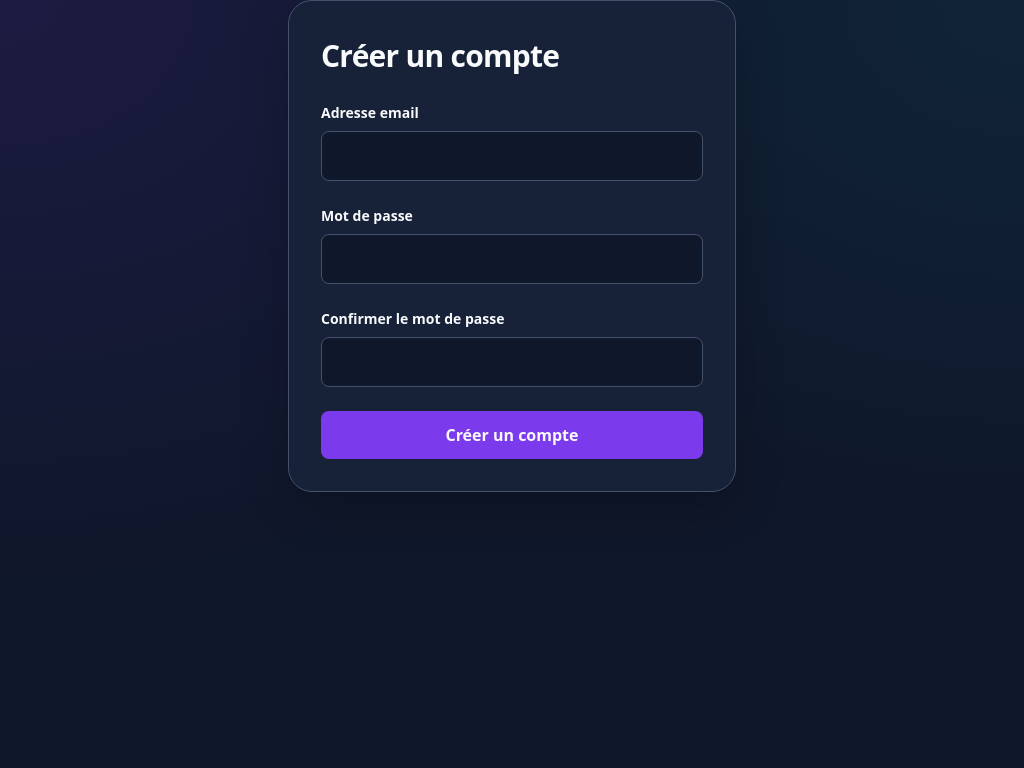
it: SignUpForm › invite à confirmer l’email lorsque l’inscription ne fournit pas de session
Type "test@example.com" into the field labelled "Adresse email" at [512, 156], box [321,131,703,181]
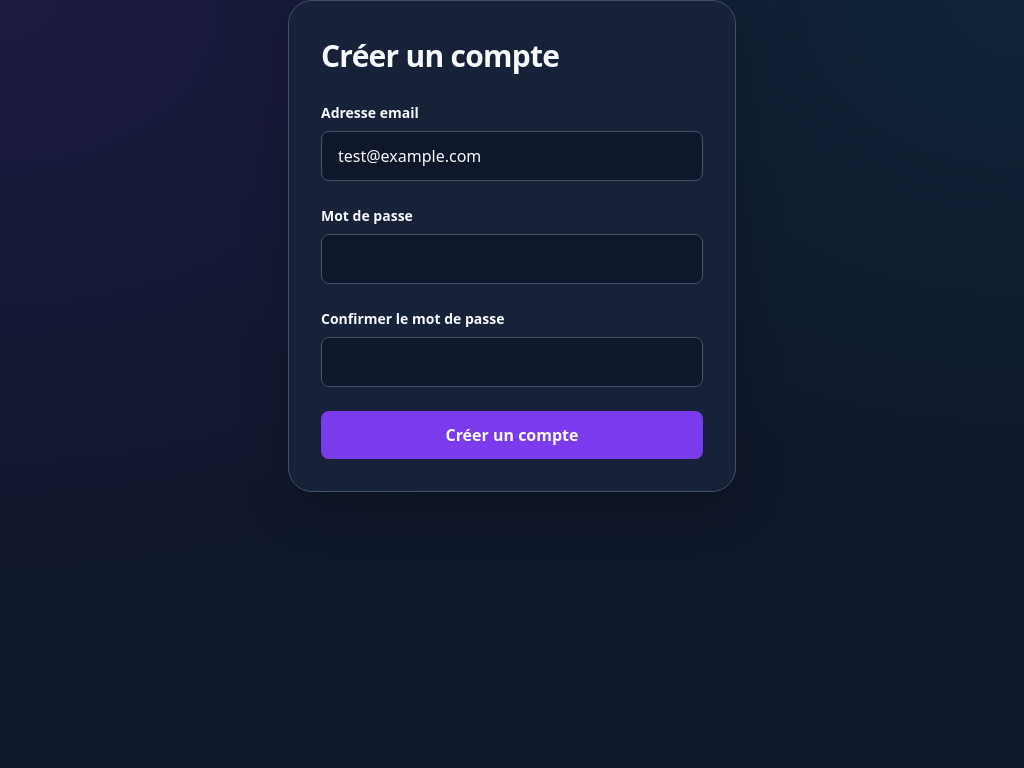
Type "test-password-123" into the password field labelled "Mot de passe" at [512, 259], box [321,234,703,284]
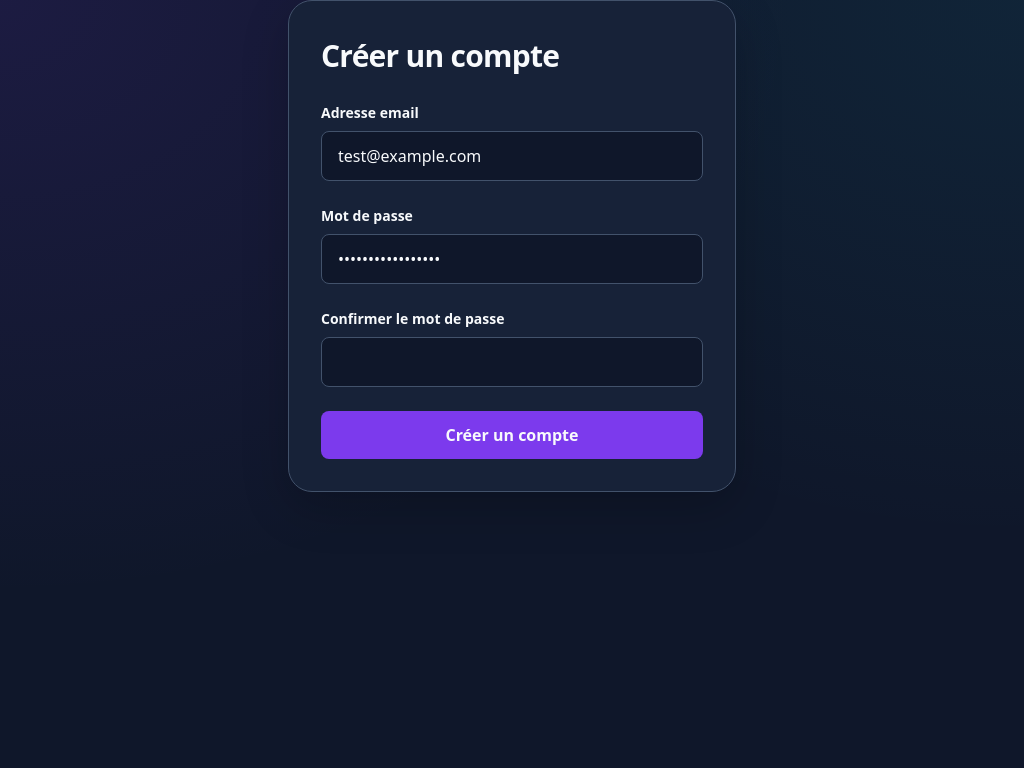
Type "test-password-123" into the password field labelled "Confirmer le mot de passe" at [512, 362], box [321,337,703,387]
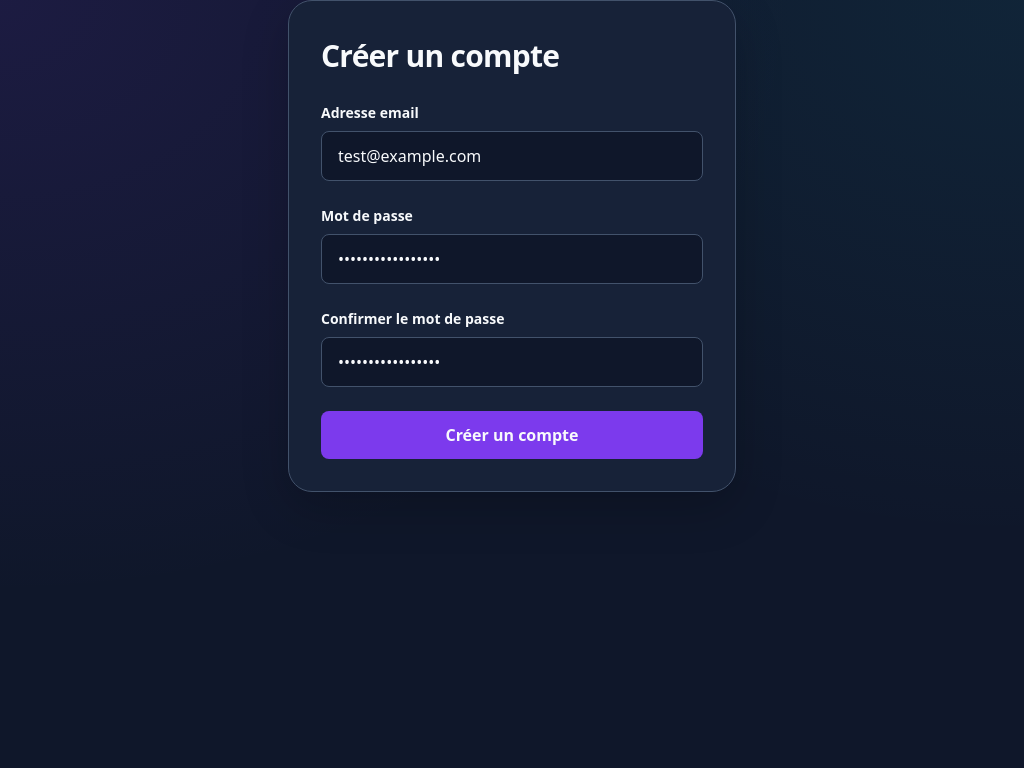
Click the button "Créer un compte" at [512, 435], box [321,411,703,459]
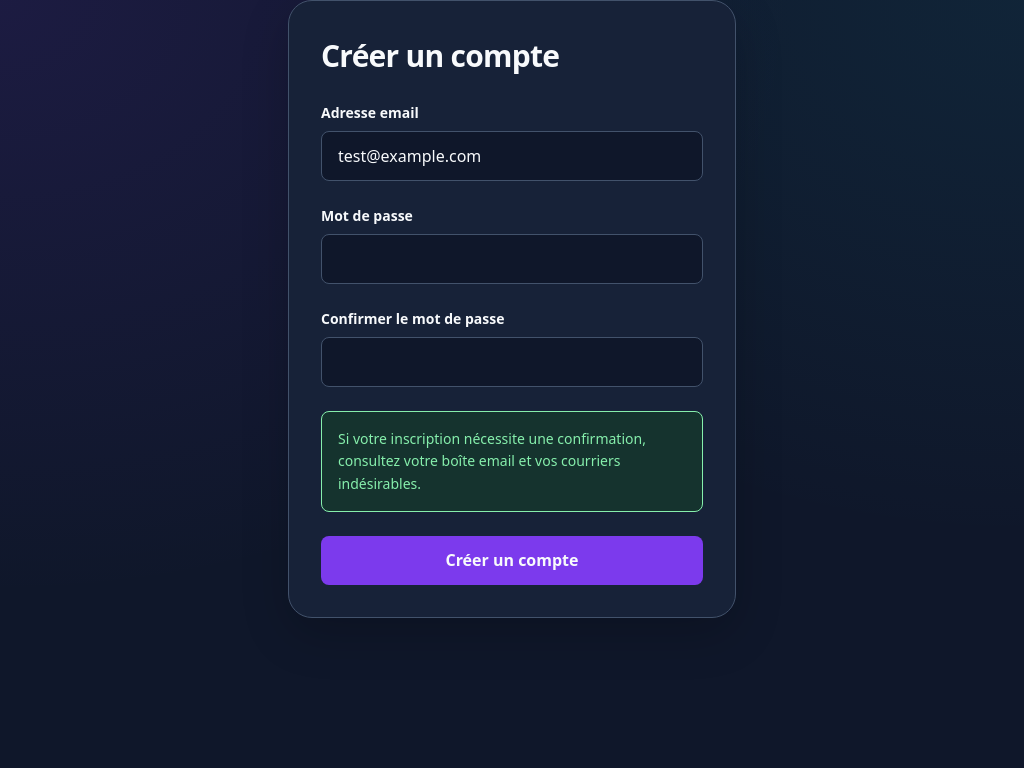
Result: the text "consultez votre boîte email" is shown at [338,429,646,493]
Result: the password field labelled "Mot de passe" is empty at [321,234,703,284]
Result: the password field labelled "Confirmer le mot de passe" is empty at [321,337,703,387]
